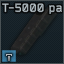Orsis T-5000M padded handguard grip: (0, 0, 64, 64)
